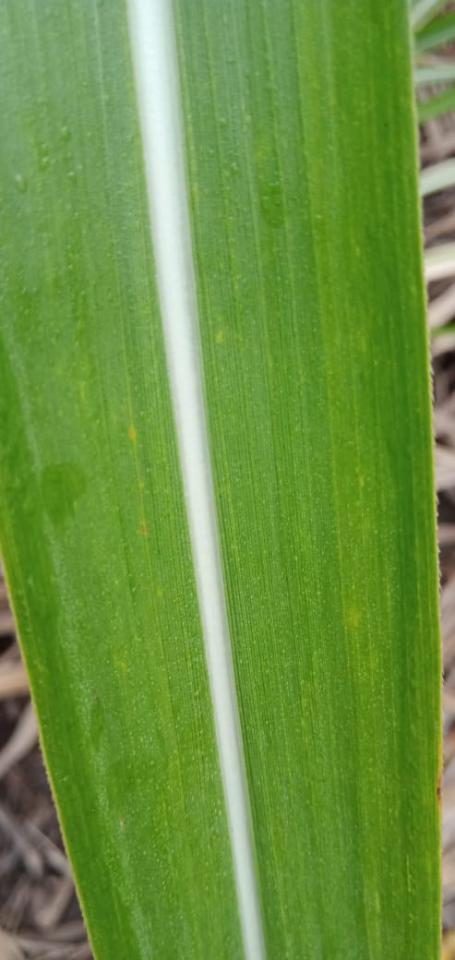Healthy: (0, 0, 444, 959)
